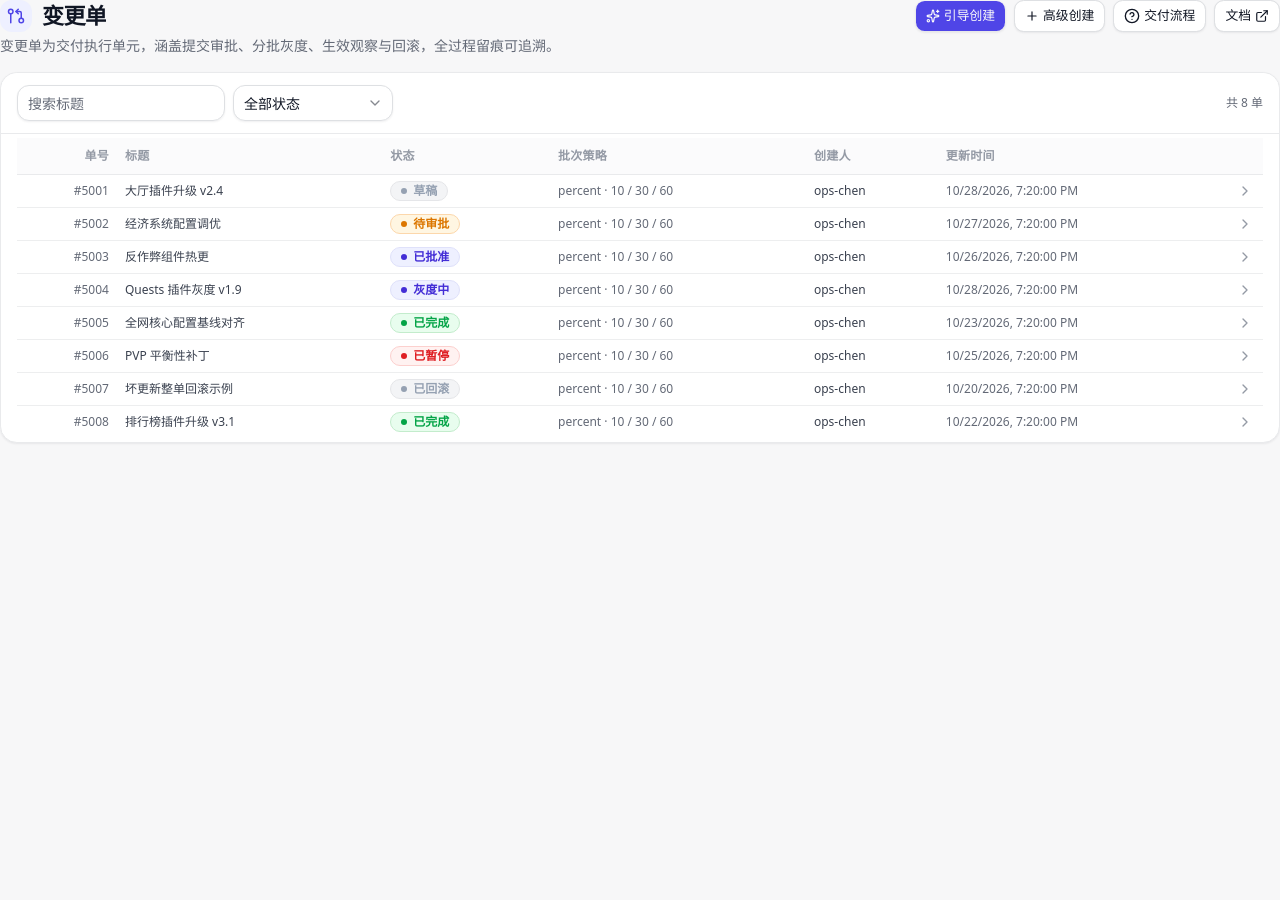
/changes 变更单页 › 页头「交付流程」入口以模态弹窗展示五步生命周期
The width and height of the screenshot is (1280, 900).
Expected: the text "大厅插件升级 v2.4" is shown, top-left (125, 182), bottom-right (223, 198)
Click the button "交付流程". click: (1160,16)
box: top-left (1113, 0), bottom-right (1206, 32)
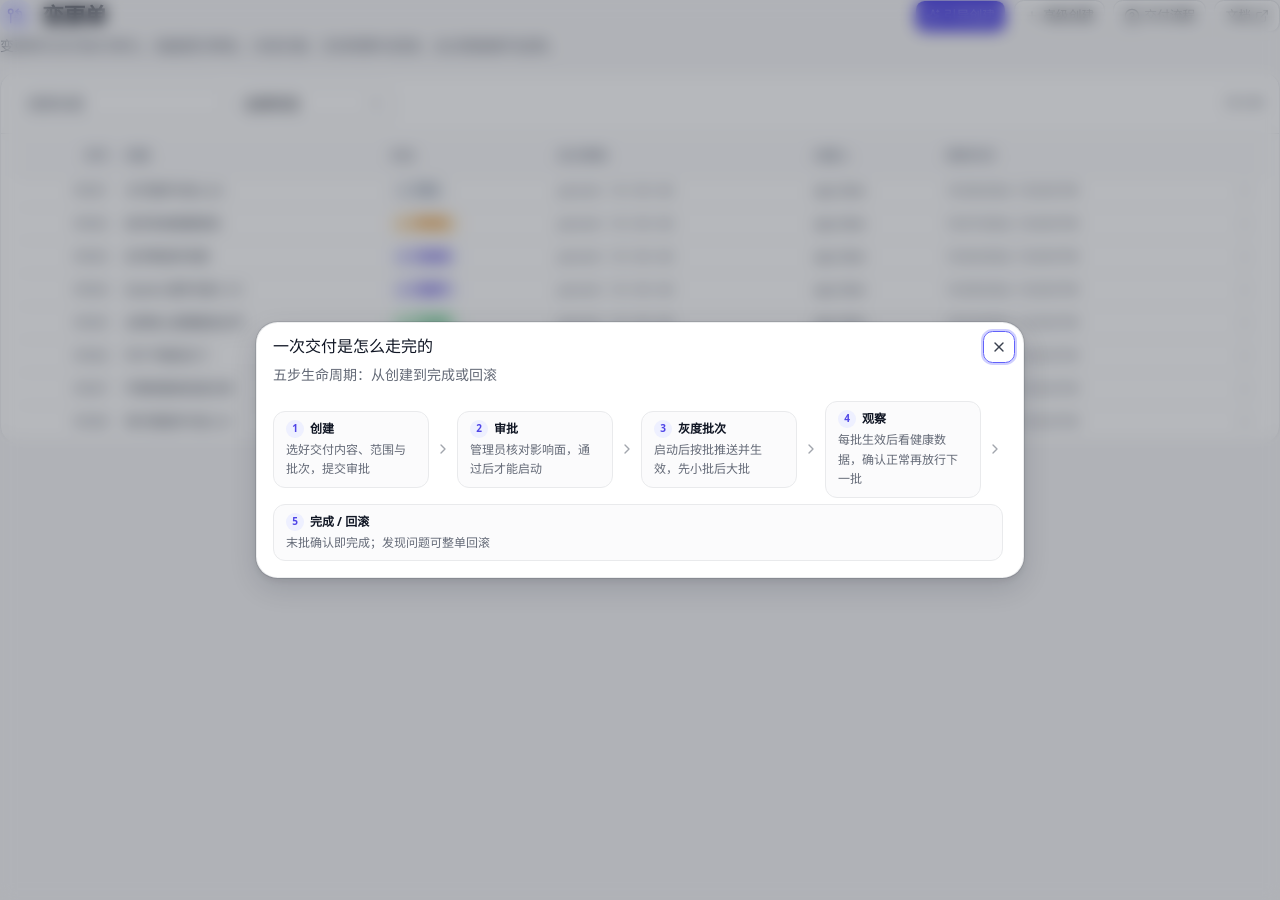
Expected: the heading "一次交付是怎么走完的" is shown, top-left (273, 338), bottom-right (433, 355)
Expected: the text "灰度批次" is shown, top-left (678, 420), bottom-right (726, 437)
Expected: the text "完成 / 回滚" is shown, top-left (310, 512), bottom-right (369, 530)
